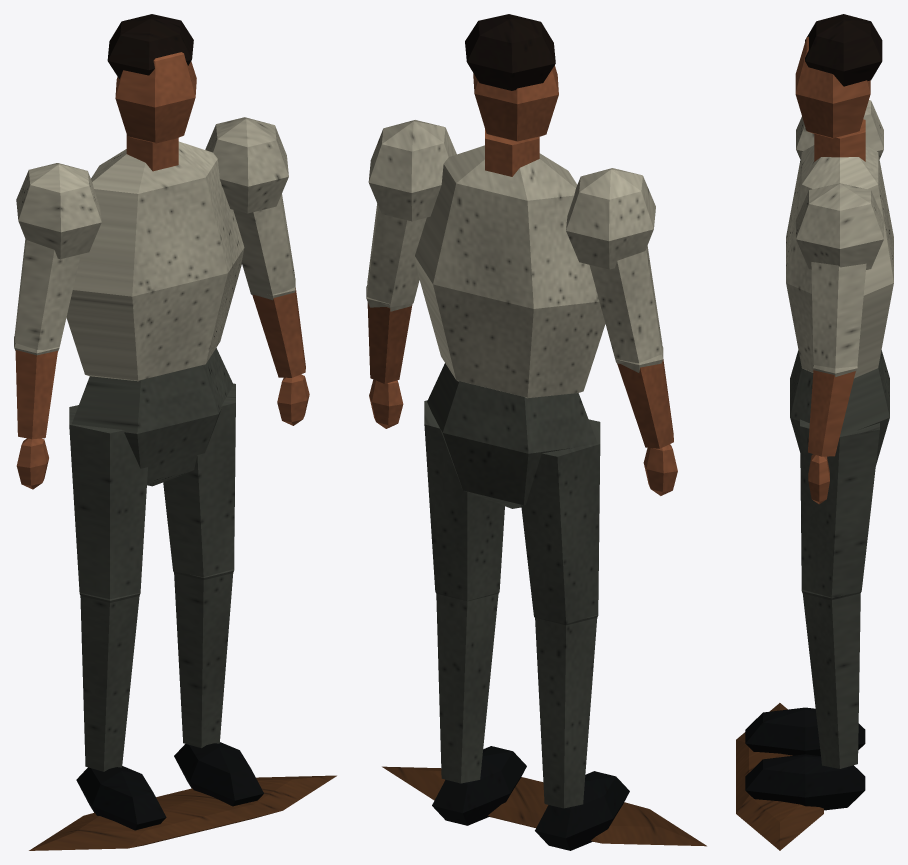
Rendered from PROP-D6813A330876_lod2.glb.
The picture shows the model from 3 angles, left to right: view 1: azimuth 30°, elevation 25°; view 2: azimuth 150°, elevation 25°; view 3: azimuth 270°, elevation 25°; orthographic projection. The views are drawn at different scales.
Visible parts, largest first — view 1: torso.052, thigh.051, calf.051, shoulder.052, pelvis.051, upper_arm.052, skateboard_deck.001, shoe.051, forearm.052, head.051, hair_cap.051, hand.051 (+1 smaller); view 2: torso.052, thigh.051, calf.051, shoulder.052, pelvis.051, upper_arm.052, shoe.051, forearm.052, skateboard_deck.001, hair_cap.051, head.051, hand.051 (+1 smaller); view 3: thigh.051, torso.052, shoe.051, calf.051, shoulder.052, upper_arm.052, hair_cap.051, head.051, pelvis.051, skateboard_deck.001, forearm.052, neck.051 (+1 smaller).
Boxes of the visible parts, box(x1,y1,x2,y2) form: torso.052: box(66, 141, 244, 381); thigh.051: box(69, 383, 235, 598); calf.051: box(80, 573, 233, 771); shoulder.052: box(16, 117, 288, 259); pelvis.051: box(72, 348, 233, 486); upper_arm.052: box(14, 194, 294, 349); skateboard_deck.001: box(29, 775, 336, 850); shoe.051: box(76, 742, 263, 830); forearm.052: box(15, 288, 305, 439); head.051: box(115, 52, 196, 143); hair_cap.051: box(107, 14, 193, 78); hand.051: box(16, 374, 309, 489); torso.052: box(415, 145, 605, 398); thigh.051: box(424, 400, 600, 623); calf.051: box(436, 593, 597, 808); shoulder.052: box(368, 120, 655, 269); pelvis.051: box(427, 363, 597, 508); upper_arm.052: box(367, 203, 662, 362); shoe.051: box(432, 746, 629, 850); forearm.052: box(367, 302, 673, 448); skateboard_deck.001: box(382, 766, 706, 846); hair_cap.051: box(465, 14, 555, 90); head.051: box(473, 65, 558, 141); hand.051: box(369, 379, 677, 495); thigh.051: box(800, 419, 879, 597); torso.052: box(786, 145, 893, 378); shoe.051: box(745, 707, 865, 810); calf.051: box(802, 593, 860, 768); shoulder.052: box(796, 100, 883, 269); upper_arm.052: box(811, 262, 866, 368); hair_cap.051: box(805, 14, 882, 86); head.051: box(795, 36, 870, 138); pelvis.051: box(790, 350, 889, 466); skateboard_deck.001: box(736, 703, 823, 850); forearm.052: box(808, 370, 855, 456); neck.051: box(814, 119, 865, 161).
Bounding box in the file's own units: 0.76 × 1.84 × 0.3422.
Materials: 6 (6 with a texture image).
